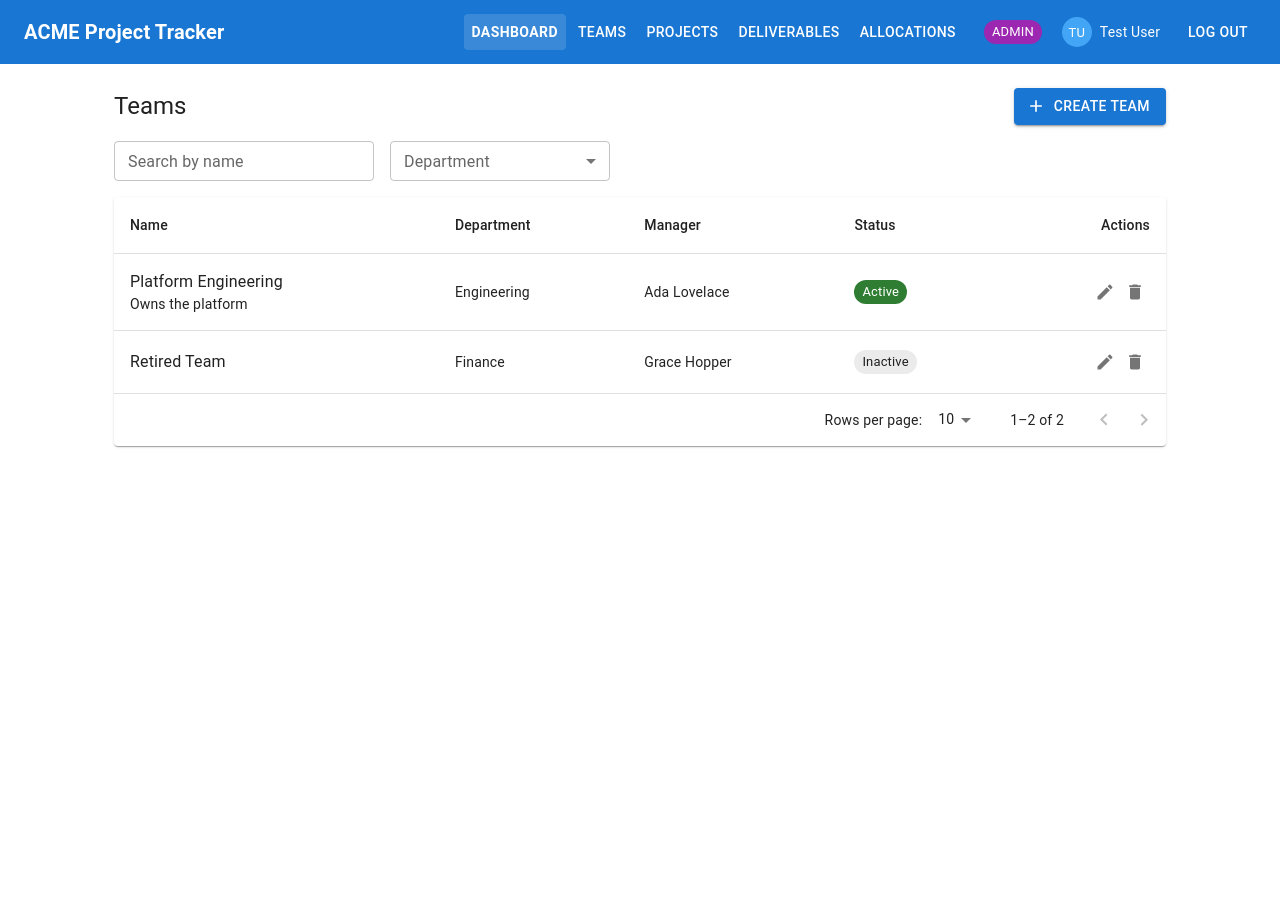
Test: delete flow › shows the backend error inside the confirm dialog when delete fails
This screenshot has width=1280, height=900.
Expected: the text "Platform Engineering" is shown, [130,272,283,290]
Step 1. Click the 4th button → [1135, 292], box [1120,276,1150,306]
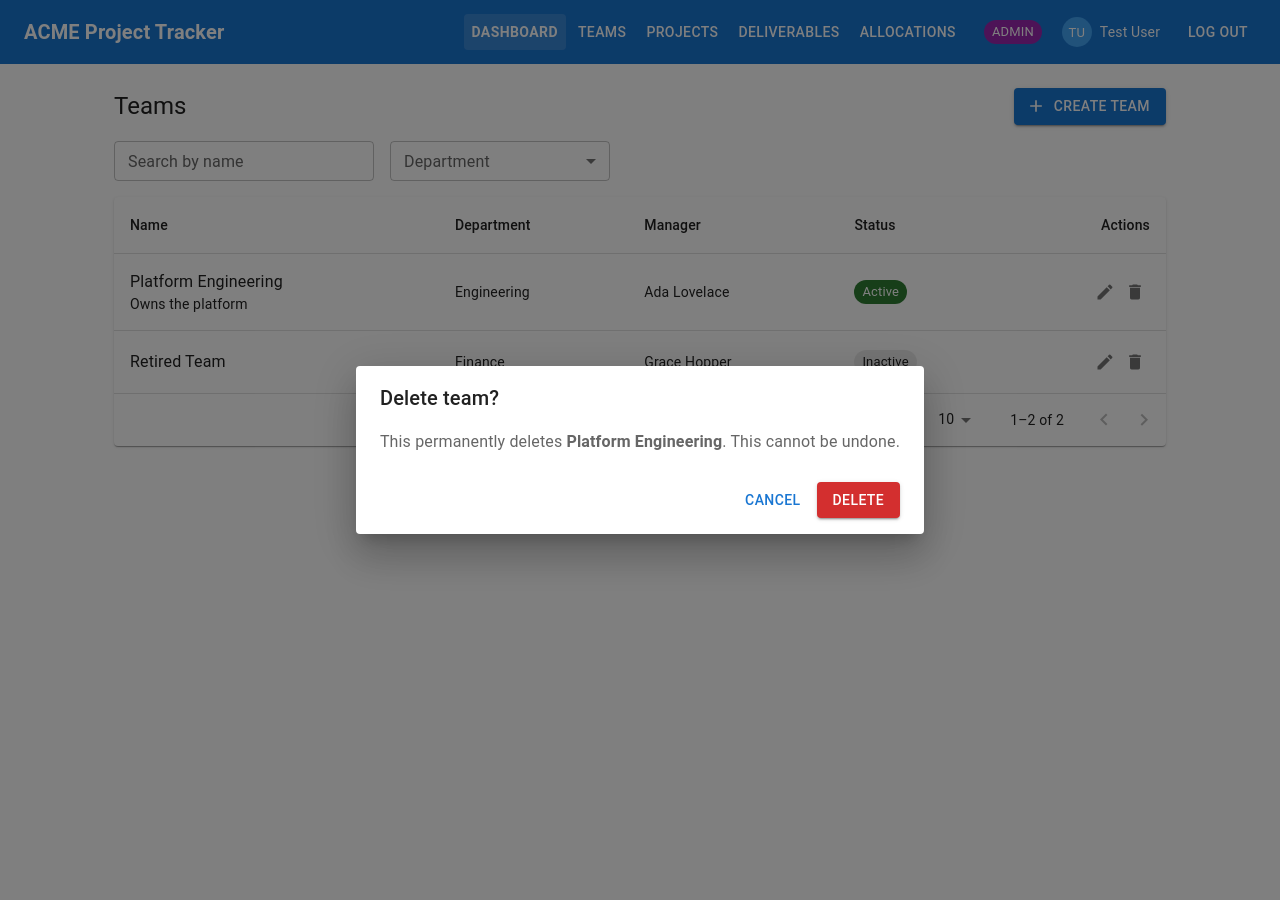
Step 2. Click the button "Delete" → [858, 500], box [816,482,900,518]
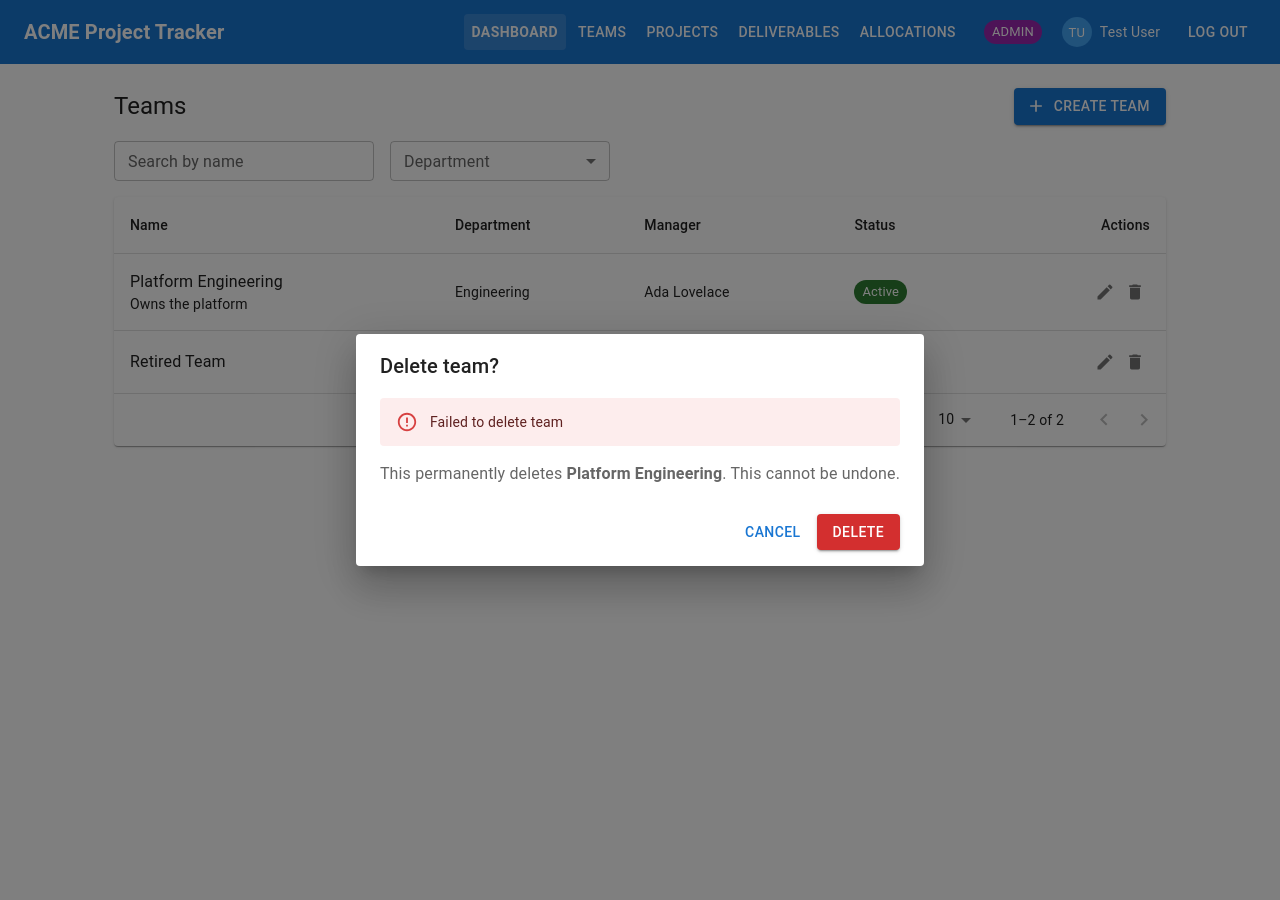
Result: the text "Failed to delete team" is shown at [430,414,563,430]
